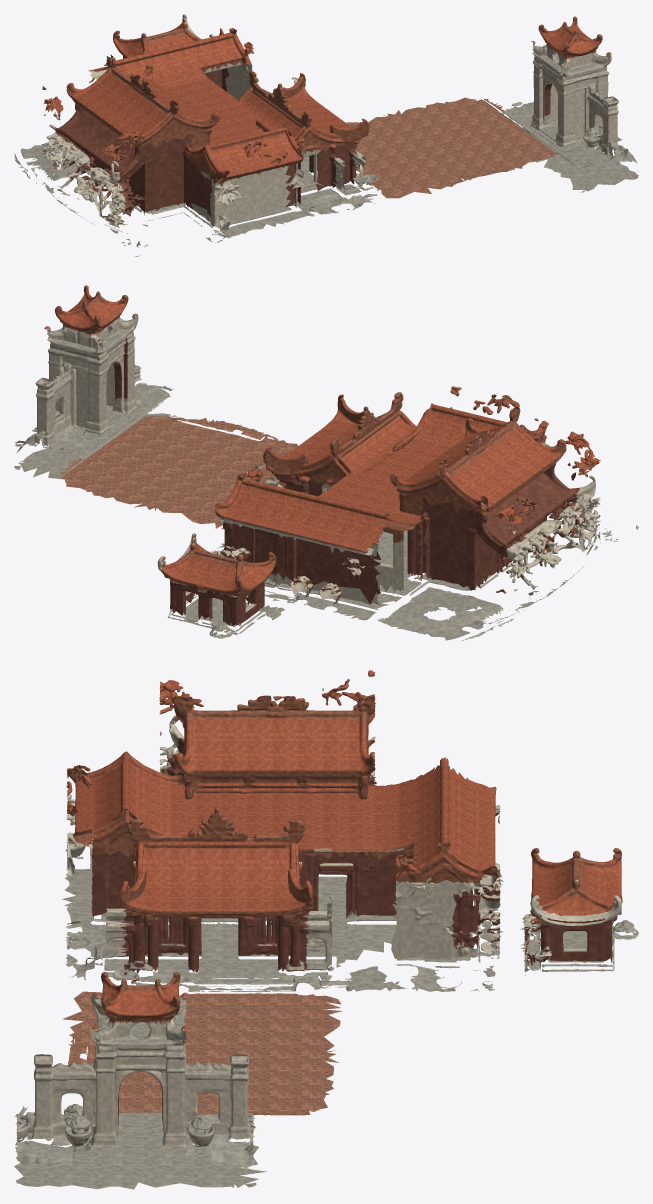
File: den-ngoc-son-heritage.glb
3 views of the same model, one above another, from view 1: azimuth 30°, elevation 25°; view 2: azimuth 150°, elevation 25°; view 3: azimuth 270°, elevation 25° (orthographic). The views are drawn at different scales.
Parts seen in each view (by area): view 1: Heritage | Ngói đất nung, sóng và mí ngói, Heritage | Vữa vôi của cổng và tường, Heritage | Gạch đỏ đất và mạch, Heritage | Cột, cửa và xà gỗ sơn nâu, Heritage | Gờ bậc và đá chạm, Heritage | Bờ nóc và diềm mái, gốm phong hoá; view 2: Heritage | Ngói đất nung, sóng và mí ngói, Heritage | Cột, cửa và xà gỗ sơn nâu, Heritage | Vữa vôi của cổng và tường, Heritage | Gạch đỏ đất và mạch, Heritage | Gờ bậc và đá chạm, Heritage | Bờ nóc và diềm mái, gốm phong hoá; view 3: Heritage | Ngói đất nung, sóng và mí ngói, Heritage | Gờ bậc và đá chạm, Heritage | Vữa vôi của cổng và tường, Heritage | Bờ nóc và diềm mái, gốm phong hoá, Heritage | Cột, cửa và xà gỗ sơn nâu, Heritage | Gạch đỏ đất và mạch.
Part boxes in pixels (x1,y1,x2,y2): Heritage | Ngói đất nung, sóng và mí ngói: (42, 19, 611, 183); Heritage | Vữa vôi của cổng và tường: (42, 14, 628, 231); Heritage | Gạch đỏ đất và mạch: (346, 97, 562, 198); Heritage | Cột, cửa và xà gỗ sơn nâu: (52, 56, 552, 216); Heritage | Gờ bậc và đá chạm: (14, 45, 638, 256); Heritage | Bờ nóc và diềm mái, gốm phong hoá: (42, 14, 608, 183); Heritage | Ngói đất nung, sóng và mí ngói: (44, 290, 600, 591); Heritage | Cột, cửa và xà gỗ sơn nâu: (113, 338, 585, 629); Heritage | Vữa vôi của cổng và tường: (34, 314, 600, 611); Heritage | Gạch đỏ đất và mạch: (59, 412, 297, 529); Heritage | Gờ bậc và đá chạm: (14, 318, 638, 641); Heritage | Bờ nóc và diềm mái, gốm phong hoá: (47, 285, 599, 596); Heritage | Ngói đất nung, sóng và mí ngói: (67, 670, 621, 1029); Heritage | Gờ bậc và đá chạm: (14, 852, 638, 1189); Heritage | Vữa vôi của cổng và tường: (16, 715, 622, 1146); Heritage | Bờ nóc và diềm mái, gốm phong hoá: (66, 673, 622, 1028); Heritage | Cột, cửa và xà gỗ sơn nâu: (91, 714, 613, 1125); Heritage | Gạch đỏ đất và mạch: (62, 982, 342, 1115).
Bounding box in the file's own units: 33.53 × 8.85 × 25.36.
Materials: 6 (6 with a texture image).
